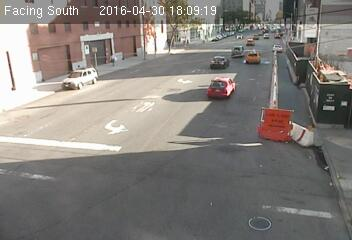neg: (280, 161, 301, 190), (152, 108, 173, 137), (25, 118, 46, 146), (132, 160, 153, 188), (310, 115, 331, 143), (68, 183, 87, 210), (100, 123, 119, 149), (273, 111, 291, 136), (122, 65, 140, 89), (25, 43, 43, 66), (60, 87, 77, 110), (240, 90, 257, 112), (305, 66, 322, 88), (201, 151, 218, 173), (191, 38, 207, 59), (250, 206, 266, 227), (72, 144, 86, 164), (202, 84, 216, 102), (278, 46, 291, 64)
